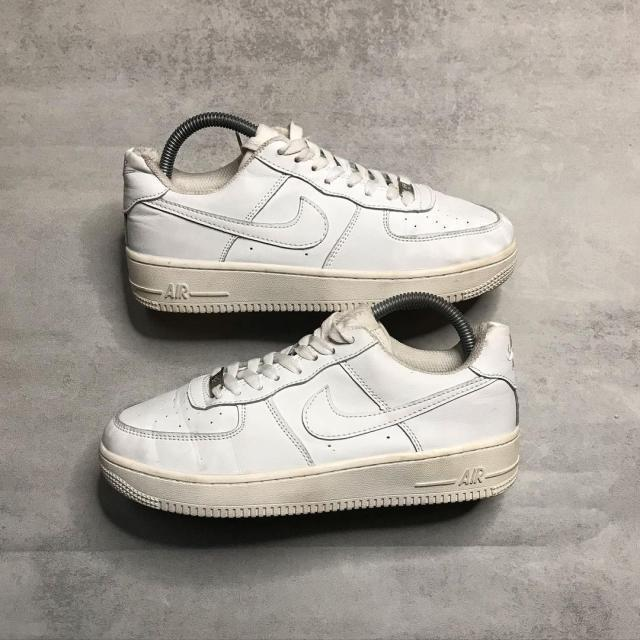nike fake air force: (96, 304, 534, 518), (115, 108, 520, 310)
